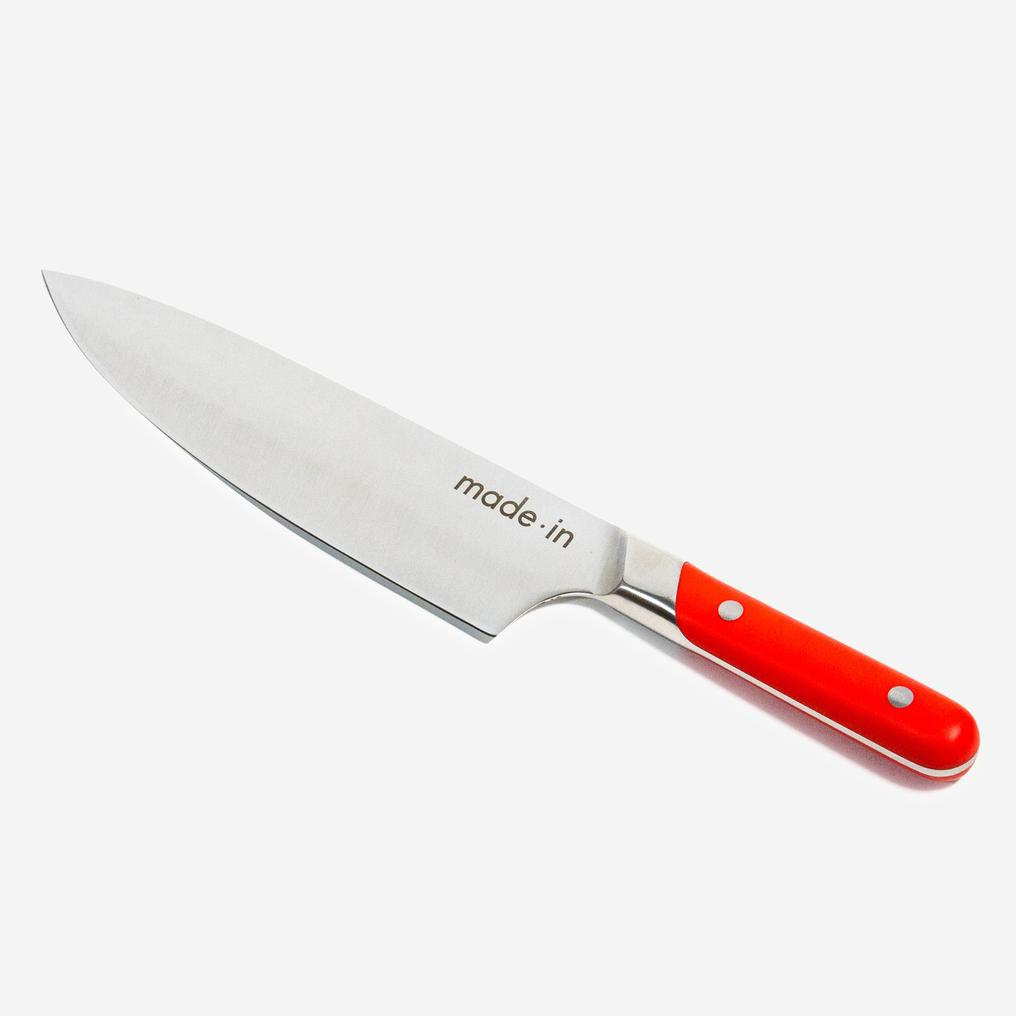knife: (38, 262, 982, 783)
